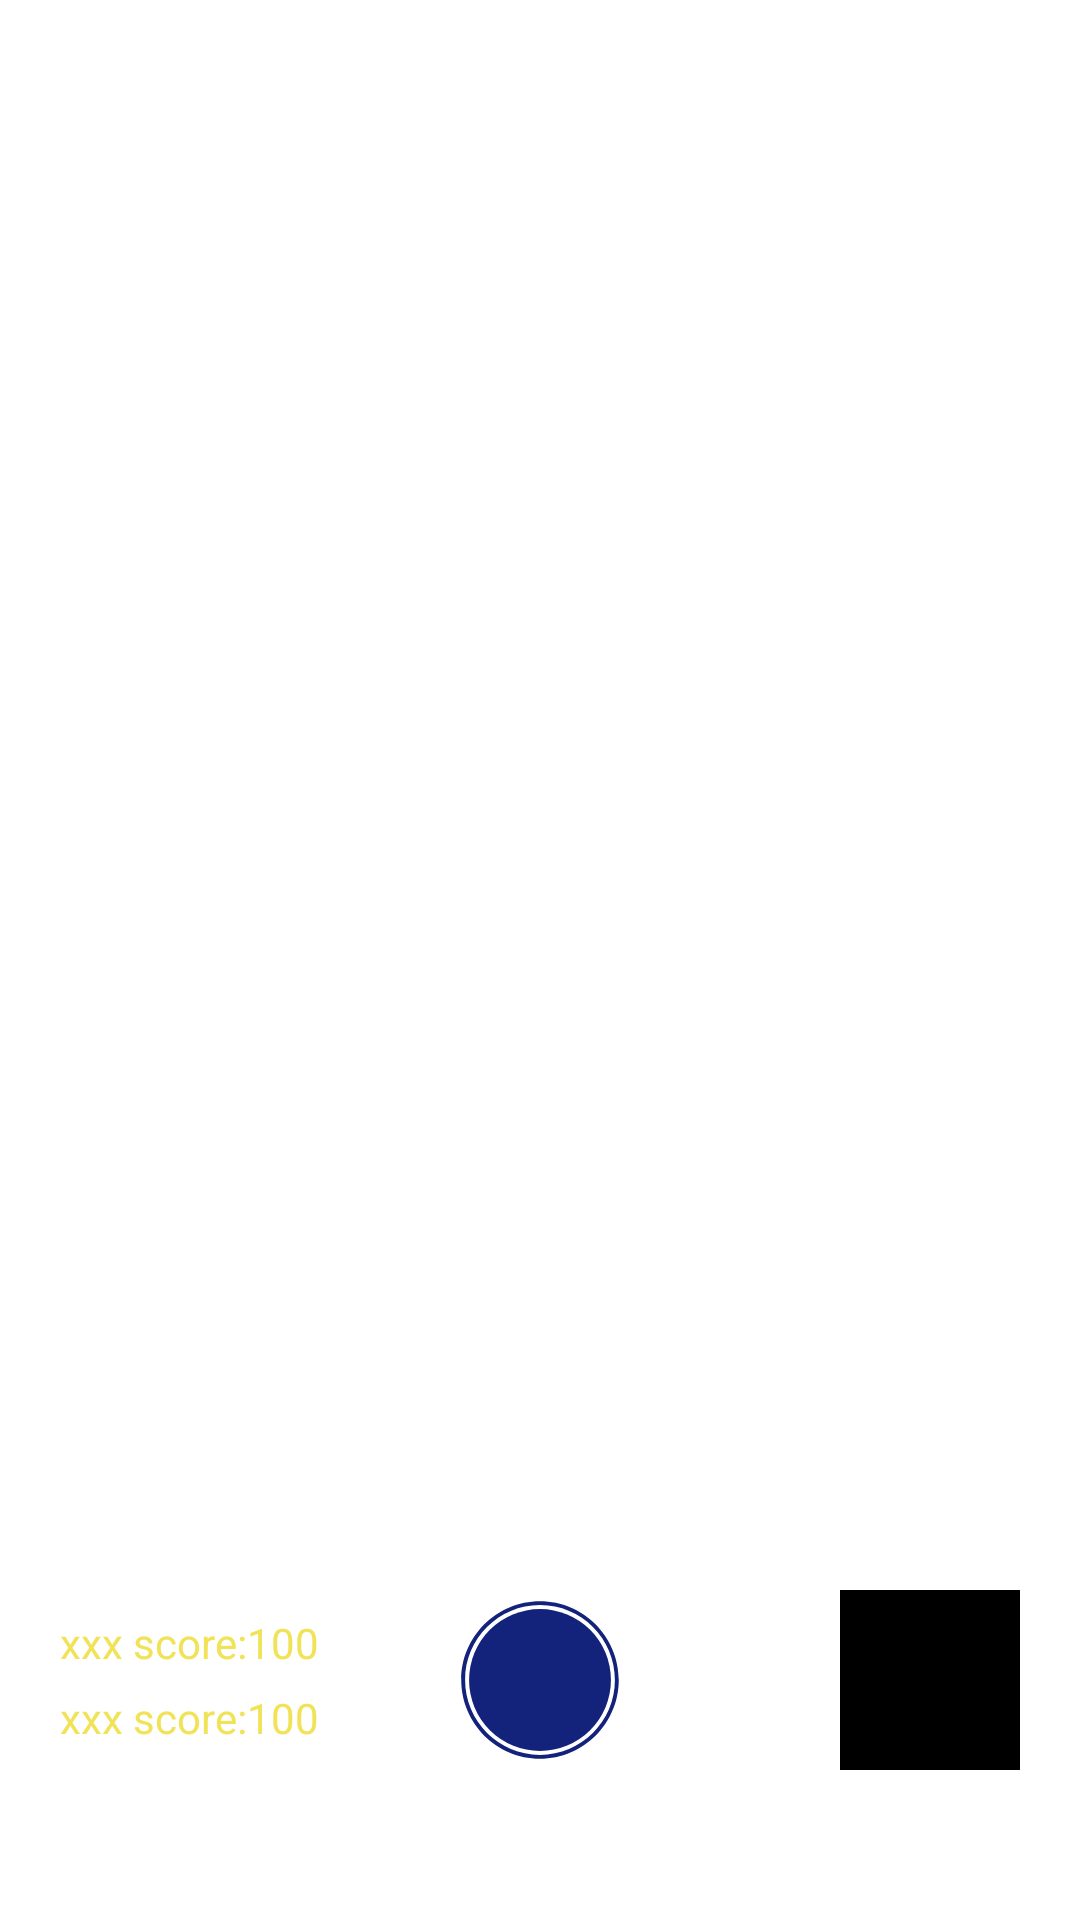

Icon click points for this 1080x1920 phone screenshot, format point (x, y):
take photo: point (540, 1680)
